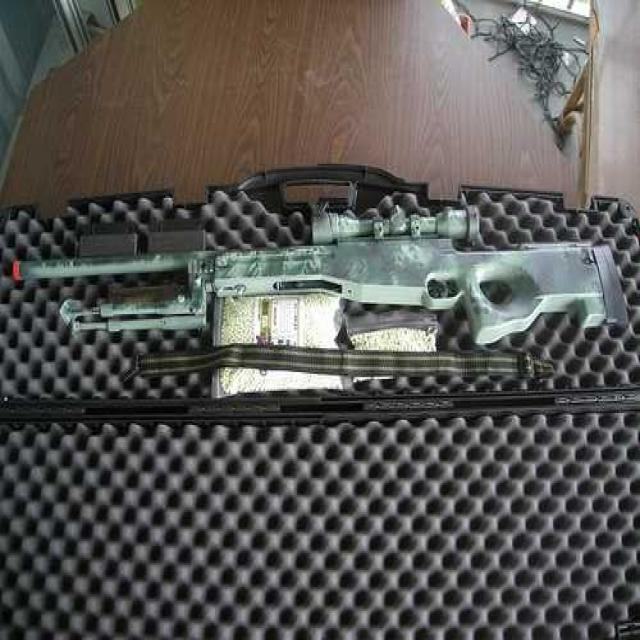weapon: (0, 203, 632, 363)
